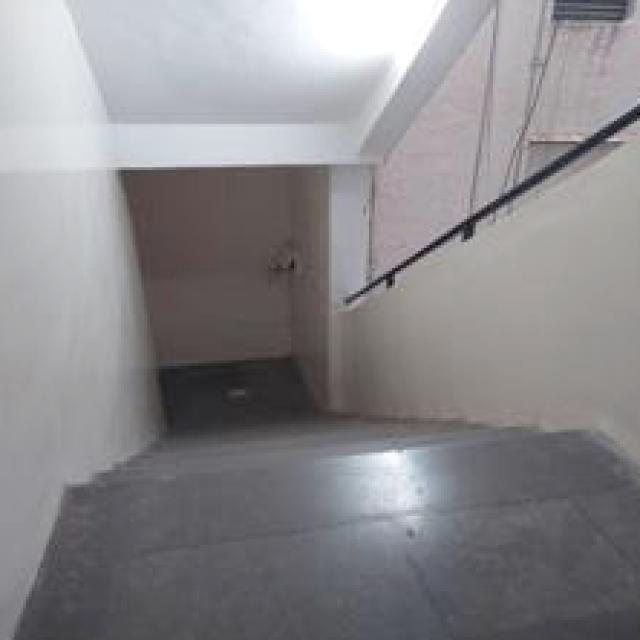downstair: (154, 396, 491, 520)
